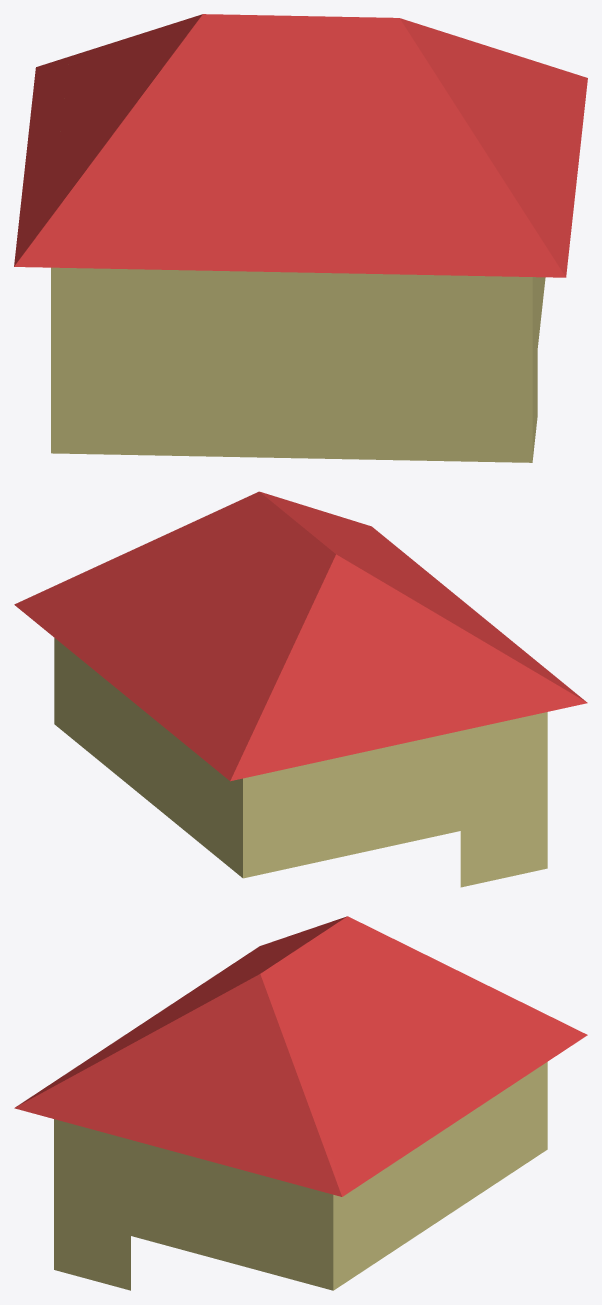
The picture shows the model from 3 angles, top to bottom: view 1: azimuth 30°, elevation 25°; view 2: azimuth 150°, elevation 25°; view 3: azimuth 270°, elevation 25°; orthographic projection. The views are drawn at different scales.
Visible parts, largest first — view 1: group_3, group_5, group_4; view 2: group_3, group_5, group_4; view 3: group_3, group_5, group_4.
Part boxes in pixels (x1=…): group_3: x1=14, y1=14, x2=587, y2=277; group_5: x1=51, y1=267, x2=545, y2=462; group_4: x1=14, y1=57, x2=587, y2=276; group_3: x1=15, y1=491, x2=586, y2=781; group_5: x1=54, y1=638, x2=547, y2=887; group_4: x1=14, y1=519, x2=587, y2=780; group_3: x1=15, y1=916, x2=587, y2=1196; group_5: x1=54, y1=1062, x2=547, y2=1290; group_4: x1=14, y1=1012, x2=586, y2=1196.
Size of the model in its own units: 15.32 by 14.81 by 8.34.
